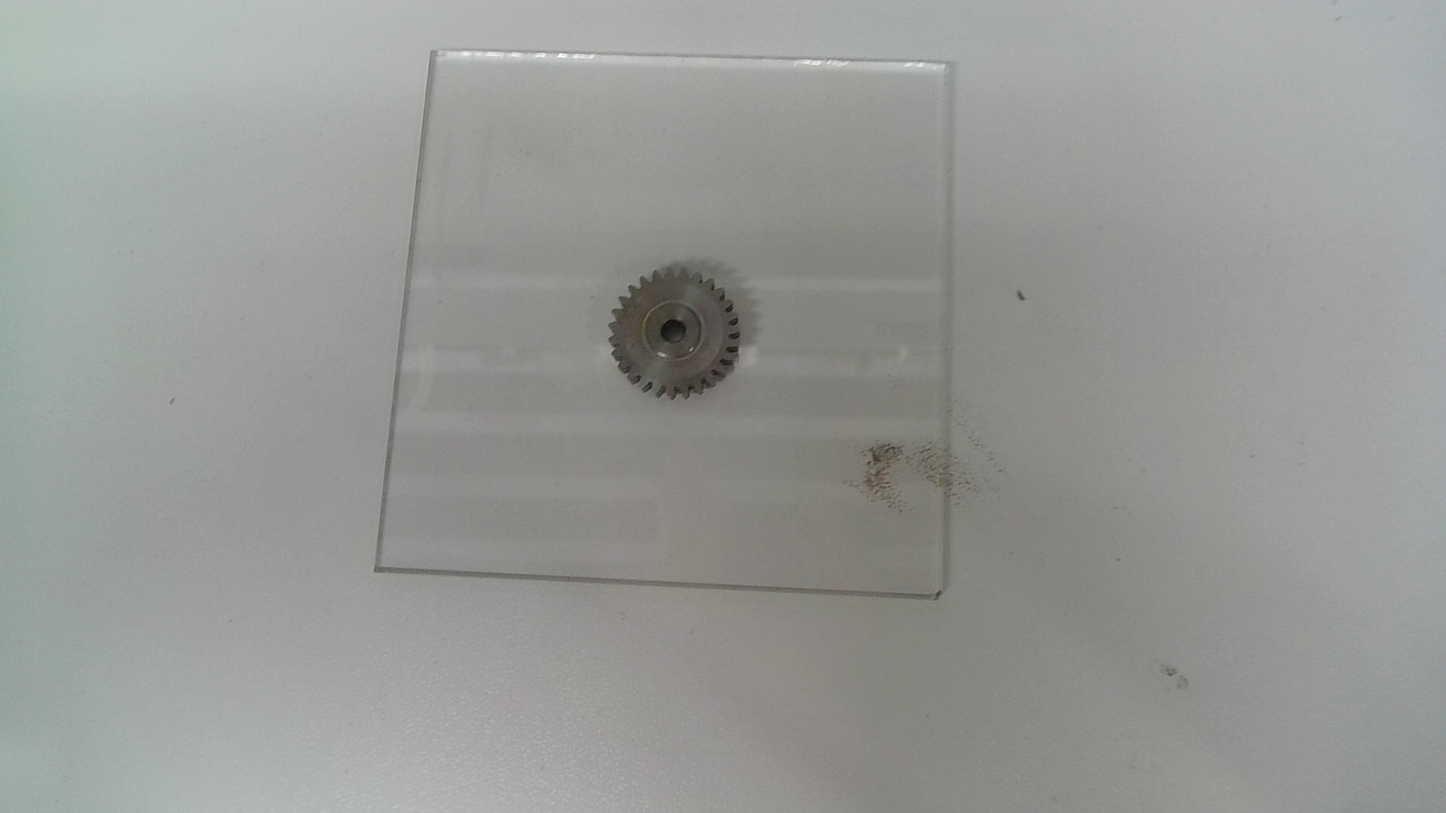gear: (606, 263, 742, 403)
